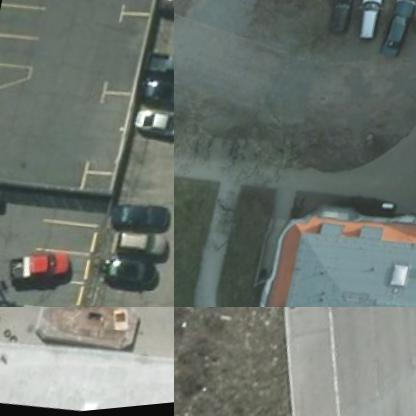car: (98, 259, 171, 304), (14, 249, 76, 294), (113, 203, 173, 245), (112, 230, 172, 272), (381, 2, 415, 67), (134, 107, 173, 150), (355, 0, 387, 51), (137, 79, 173, 123), (328, 0, 359, 44), (145, 51, 173, 94), (156, 0, 173, 34)
